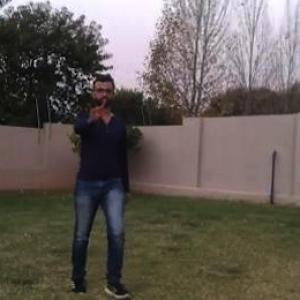takeoff-hand: (78, 90, 108, 128)
